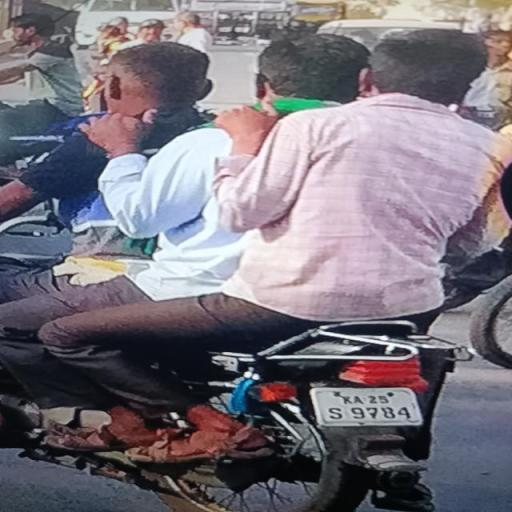tripple riding: (0, 22, 512, 360)
